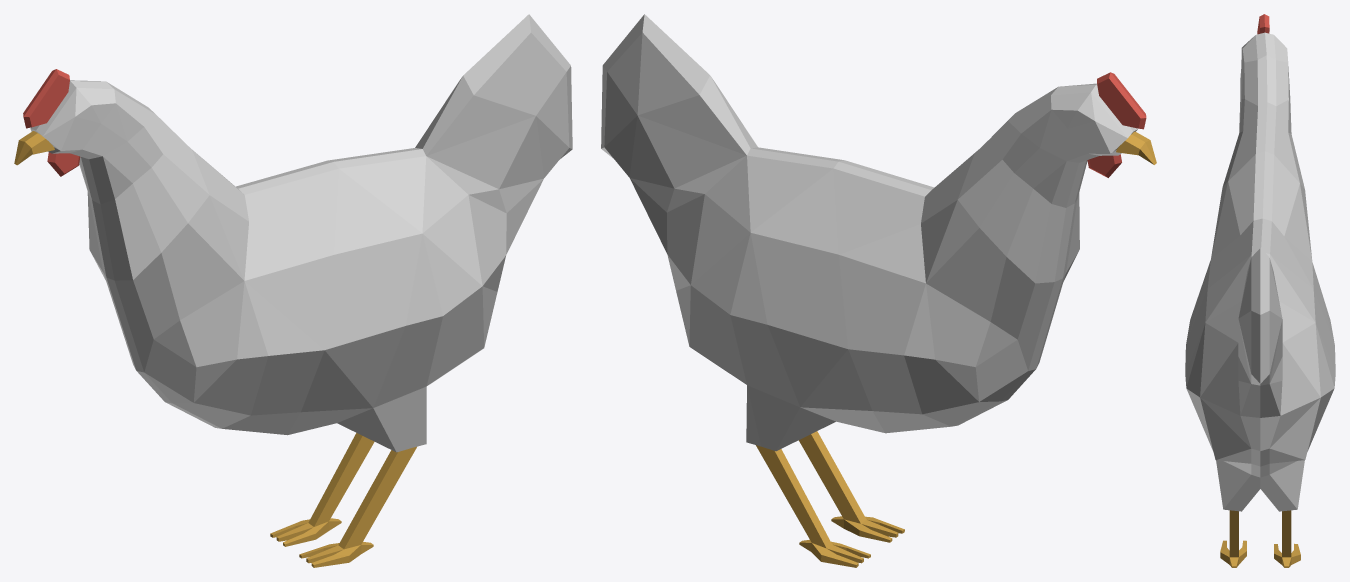
File: hen_7.fbx
The picture shows the model from 3 angles, left to right: view 1: azimuth 30°, elevation 25°; view 2: azimuth 150°, elevation 25°; view 3: azimuth 270°, elevation 25°; orthographic projection. The views are drawn at different scales.
Parts seen in each view (by area): view 1: Body, Feet, Top, Beak; view 2: Body, Feet, Top, Beak; view 3: Body, Feet, Top.
Boxes of the visible parts, x1,y1,x2,y2 form: Body: [30, 14, 572, 452]; Feet: [270, 433, 416, 567]; Top: [23, 69, 69, 128]; Beak: [14, 131, 54, 165]; Body: [601, 14, 1137, 451]; Feet: [756, 431, 904, 567]; Top: [1097, 72, 1146, 129]; Beak: [1116, 131, 1156, 164]; Body: [1185, 32, 1335, 511]; Feet: [1220, 510, 1300, 567]; Top: [1257, 14, 1269, 34].
Size of the model in its own units: 0.7017 by 2.26 by 2.44.
